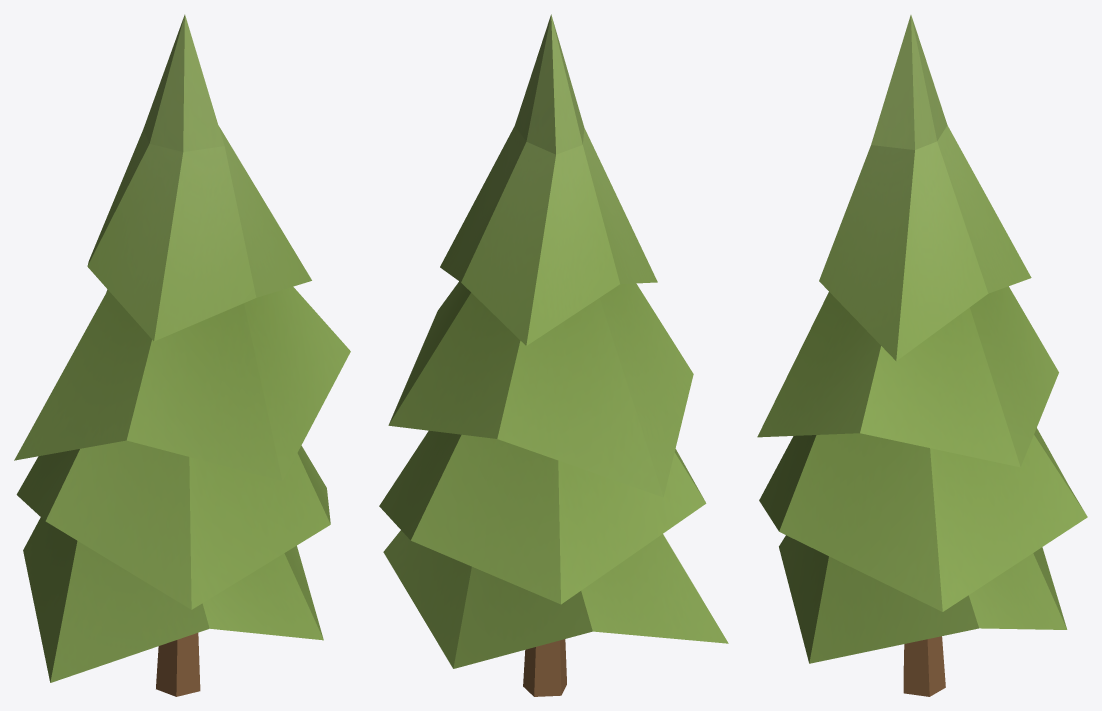
Rendered from Pine_Tree_m_08.fbx.
The picture shows the model from 3 angles, left to right: view 1: azimuth 30°, elevation 25°; view 2: azimuth 150°, elevation 25°; view 3: azimuth 270°, elevation 25°; orthographic projection.
Parts seen in each view (by area): view 1: Pine_Tree_m_08; view 2: Pine_Tree_m_08; view 3: Pine_Tree_m_08.
Boxes of the visible parts, x1,y1,x2,y2 form: Pine_Tree_m_08: (14, 14, 350, 696); Pine_Tree_m_08: (379, 14, 728, 696); Pine_Tree_m_08: (757, 15, 1087, 696).
Size of the model in its own units: 285 by 585 by 260.
